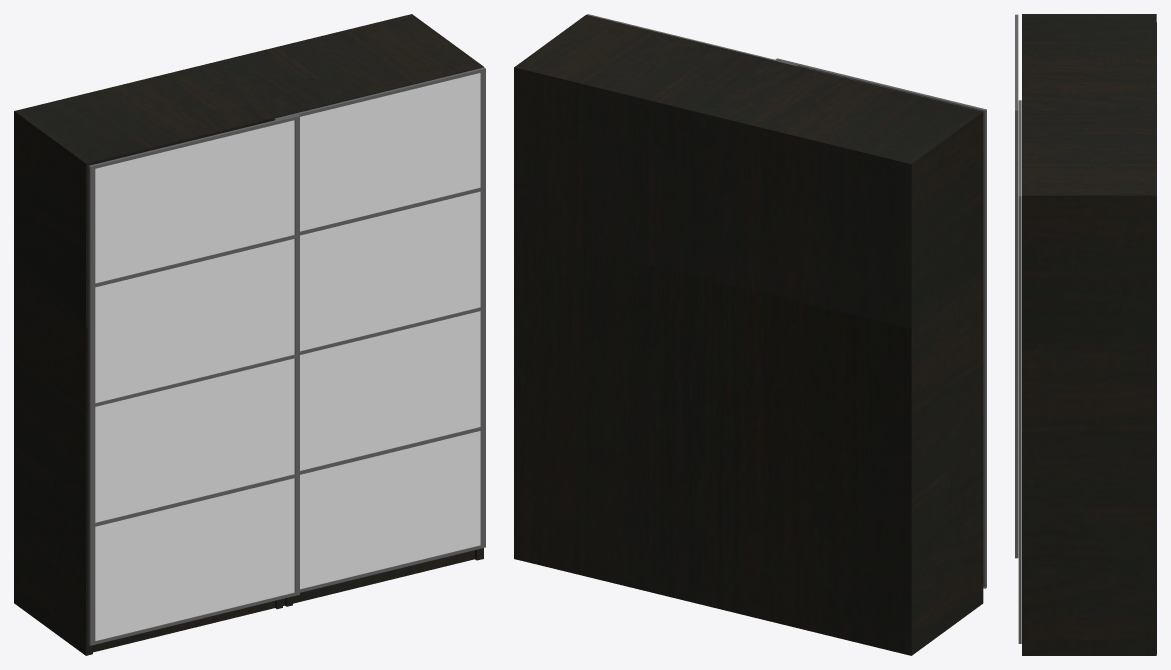
The model's file is sh_blend_swap_cc_0_wardrobewithslidingdoors.glb.
The picture shows the model from 3 angles, left to right: view 1: azimuth 30°, elevation 25°; view 2: azimuth 150°, elevation 25°; view 3: azimuth 270°, elevation 25°; orthographic projection. The views are drawn at different scales.
Size of the model in its own units: 2 by 2.36 by 0.66.
Materials: 4 (1 with a texture image).
